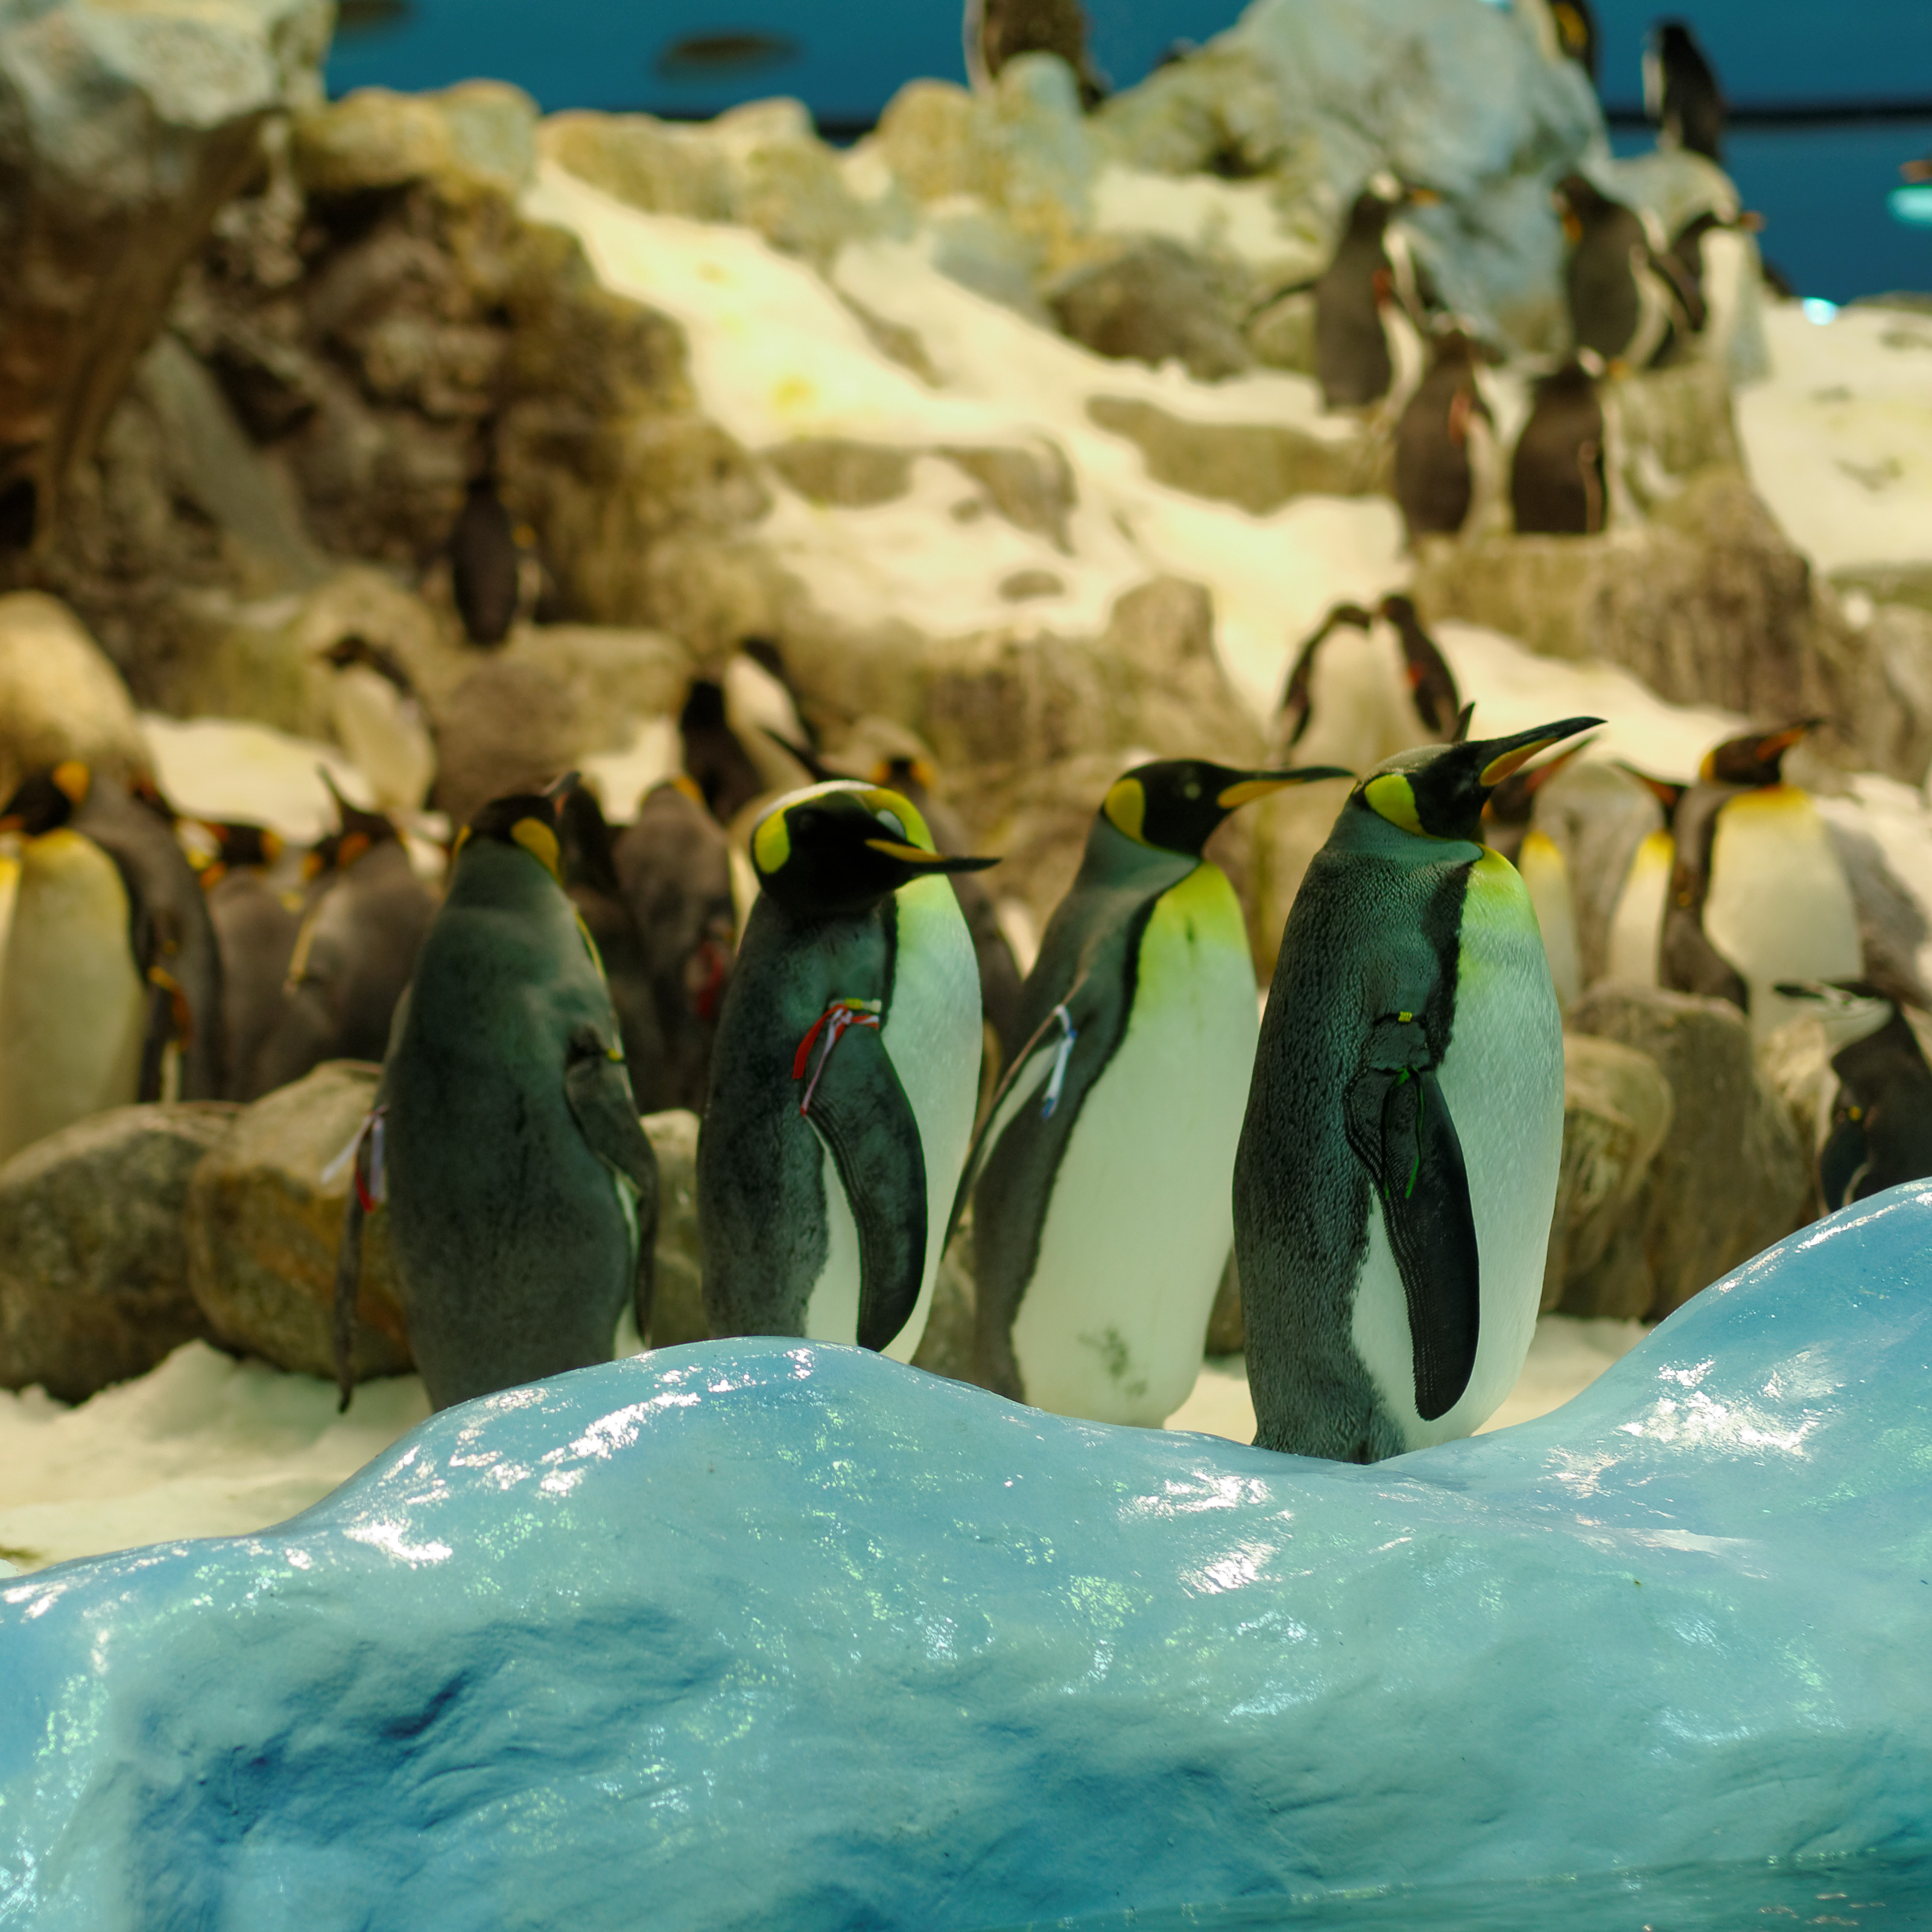penguin: (1272, 704, 1622, 1488), (984, 745, 1361, 1451), (336, 757, 649, 1421), (736, 787, 1023, 1428)
